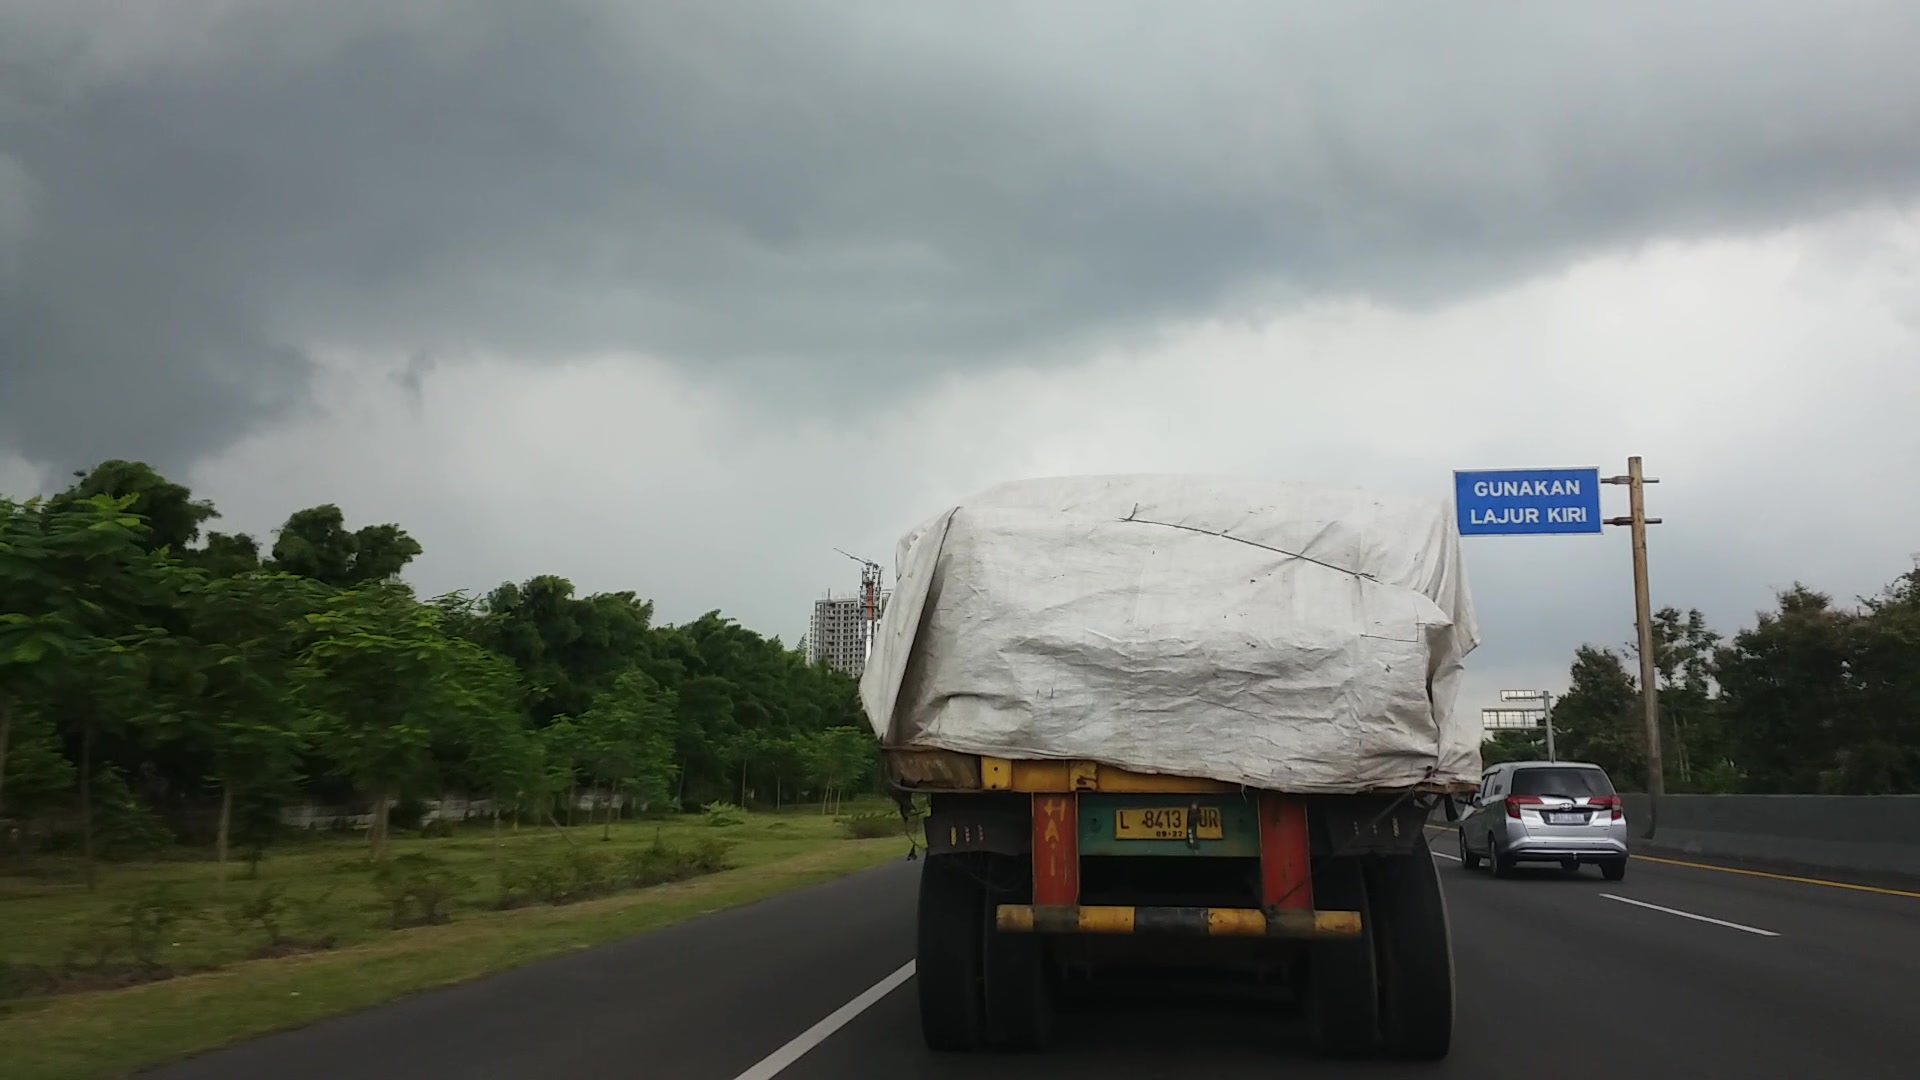plate_positive: (1114, 806, 1221, 840)
